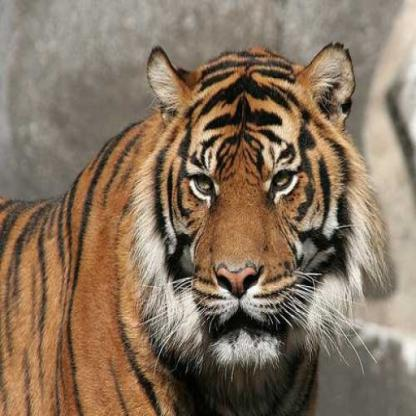Tiger: (0, 28, 366, 415)
